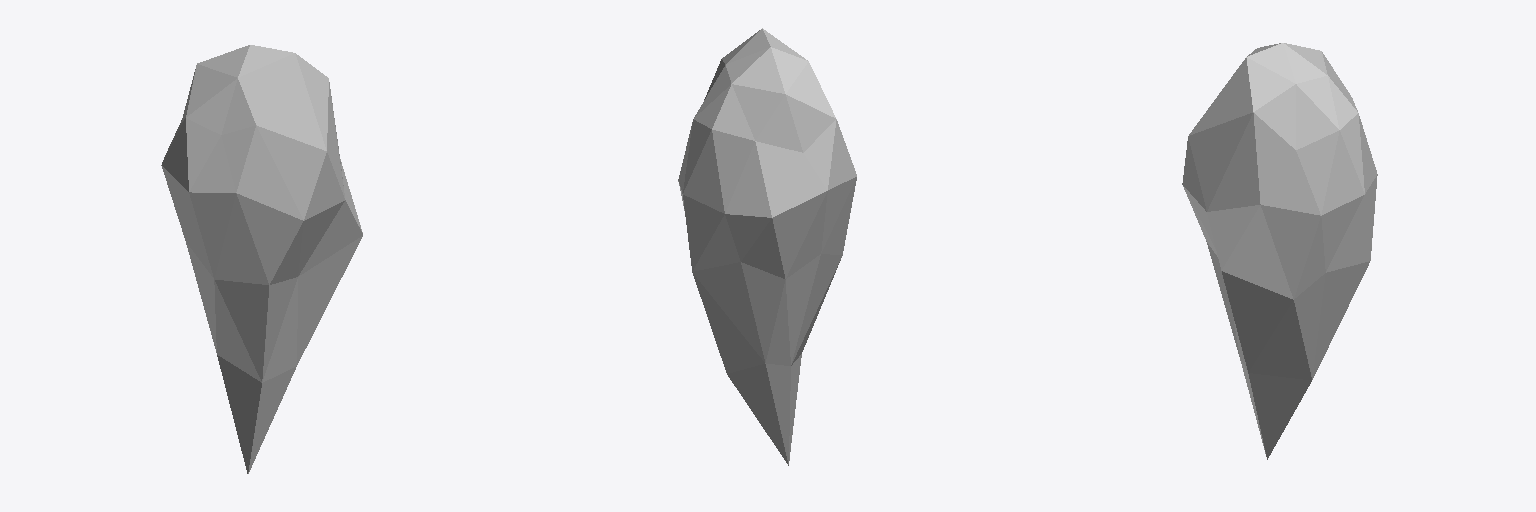
Rendered from largeRock.obj.
3 views of the same model, side by side, from view 1: azimuth 30°, elevation 25°; view 2: azimuth 150°, elevation 25°; view 3: azimuth 270°, elevation 25° (orthographic).
Visible parts, largest first — view 1: Icosphere.005; view 2: Icosphere.005; view 3: Icosphere.005.
Part boxes in pixels (x1,y1,x2,y2): Icosphere.005: (161,45,362,473); Icosphere.005: (678,28,856,465); Icosphere.005: (1182,43,1377,459).
Size of the model in its own units: 209 by 539 by 226.